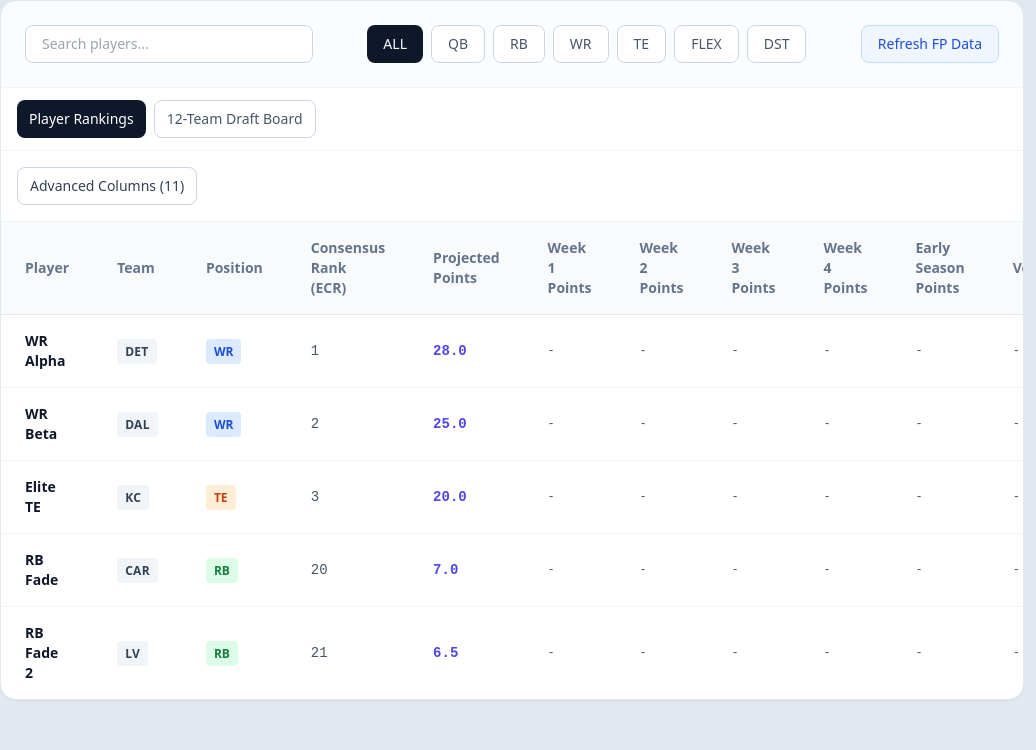
Test case: DashboardClient › activates Zero RB path in rounds 3-6 when no RB is drafted through round 2
Click the tab with test id "tab-draft-board". click: (235, 119)
box: [154,100,316,138]
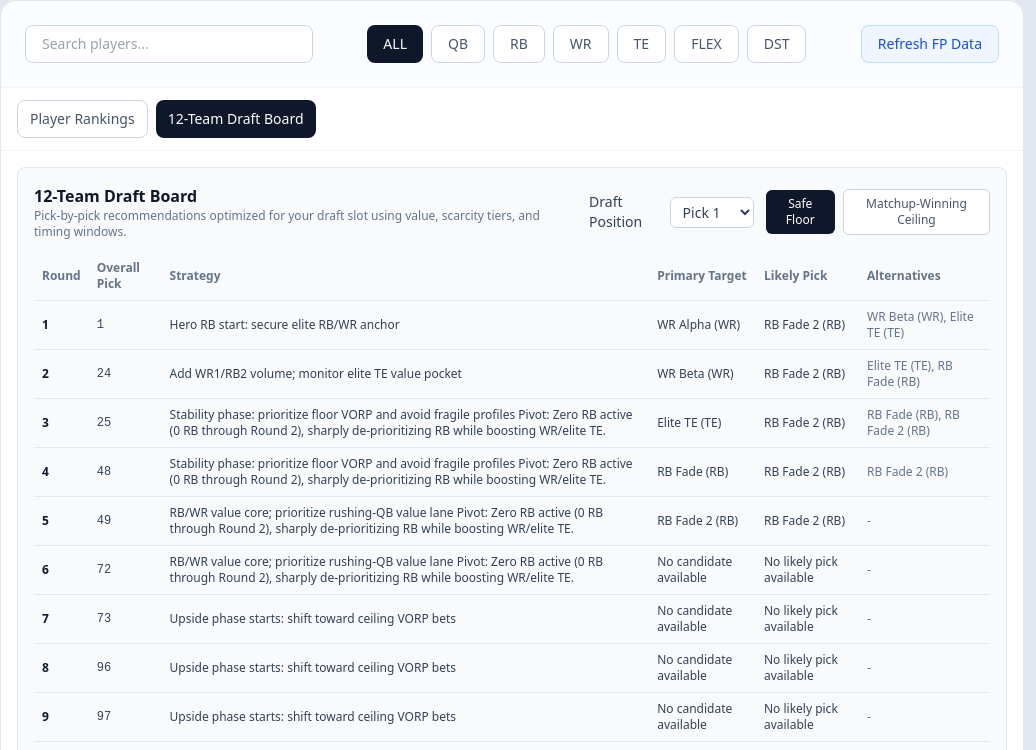
Expected: the cell with test id "draft-board-primary-3" does not show "RB Fade", [649,398,756,448]
Result: the row with test id "draft-board-row-3" shows "Zero RB active" at [170,406,633,439]
